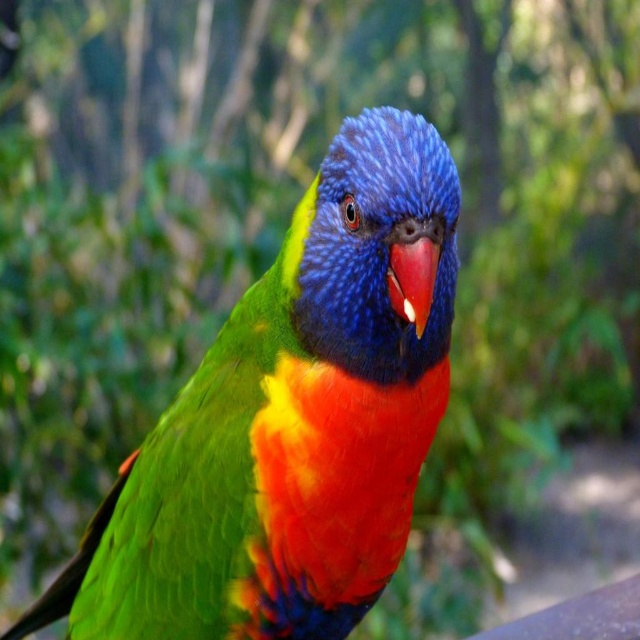Parrot: (1, 101, 462, 639)
